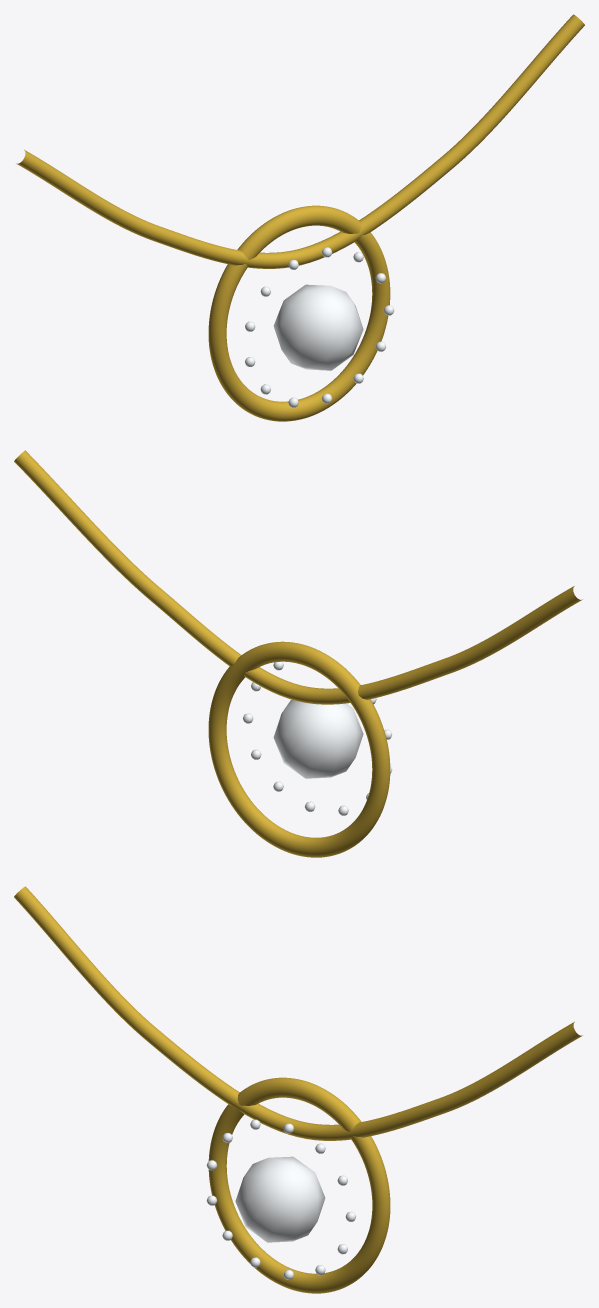
File: fleur-diamond-pendant.glb
The picture shows the model from 3 angles, top to bottom: view 1: azimuth 30°, elevation 25°; view 2: azimuth 150°, elevation 25°; view 3: azimuth 330°, elevation 25°; orthographic projection.
Visible parts, largest first — view 1: chain, pendant_frame, pendant_gem; view 2: pendant_frame, chain, pendant_gem; view 3: chain, pendant_frame, pendant_gem.
Part boxes in pixels (x1,y1,x2,y2): chain: (16, 14, 584, 268); pendant_frame: (208, 205, 390, 421); pendant_gem: (273, 284, 363, 370); pendant_frame: (208, 641, 390, 857); chain: (14, 450, 582, 704); pendant_gem: (273, 699, 363, 778); chain: (14, 886, 582, 1140); pendant_frame: (208, 1077, 390, 1293); pendant_gem: (235, 1156, 325, 1242).
Bounding box in the file's own units: 2.74 × 1.55 × 0.387.
